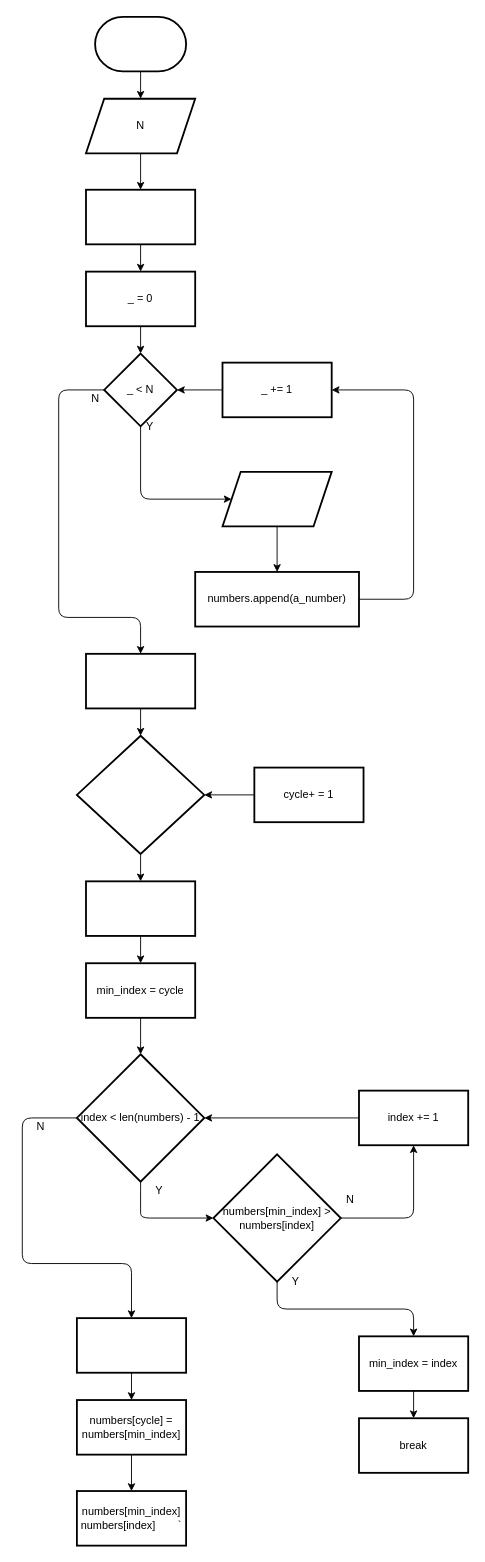
Image size: 485x1562. Some labels were removed from this diagram. The shapes that lost their labels are listed below. From the top down, each one's centre as x and y in pixels, then its label:
At (x=140, y=43): "start".
At (x=140, y=216): "numbers = []".
At (x=276, y=498): "a_number".
At (x=140, y=680): "cycle = 0".
At (x=140, y=794): "cycle < len(numbers] - 1".
At (x=140, y=908): "index = cycle + 1".
At (x=131, y=1345): "was_min = numbers[index]".
